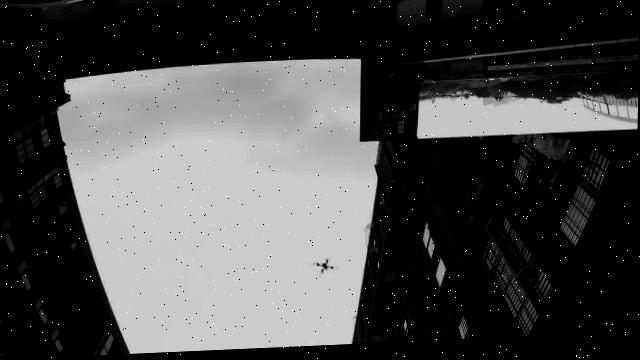drone: (312, 260, 336, 277)
